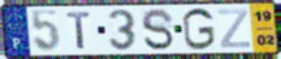3: (106, 8, 138, 52)
5: (28, 8, 63, 54)
G: (181, 7, 217, 52)
S: (140, 7, 176, 52)
T: (65, 11, 93, 51)
Z: (216, 8, 252, 49)
